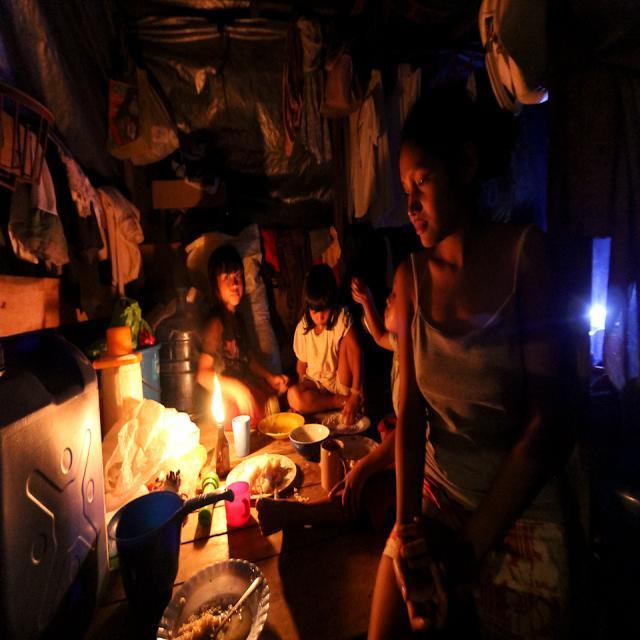Fire: (206, 375, 234, 437)
